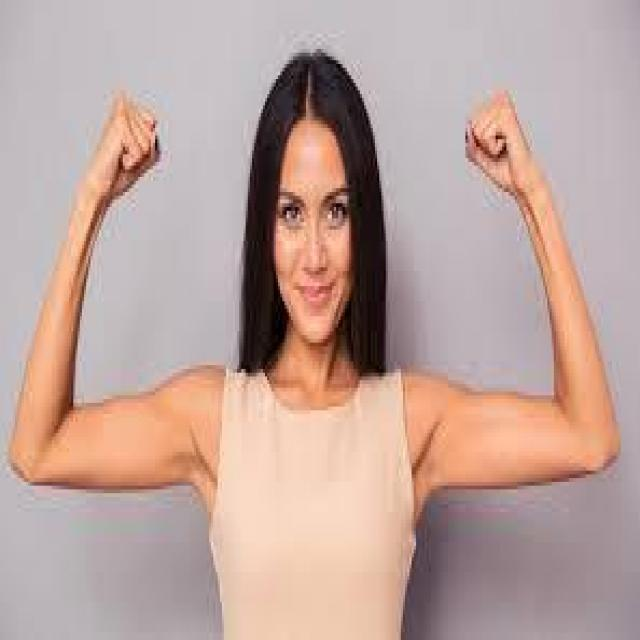person: (2, 23, 619, 636)
